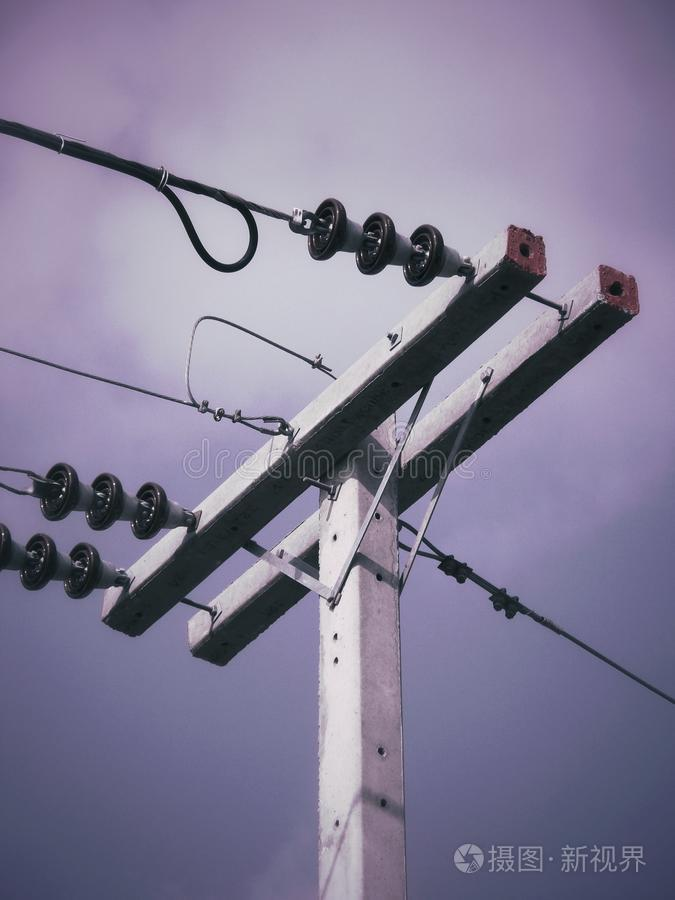insulator: (303, 196, 443, 289), (37, 463, 170, 542), (1, 522, 101, 608)
